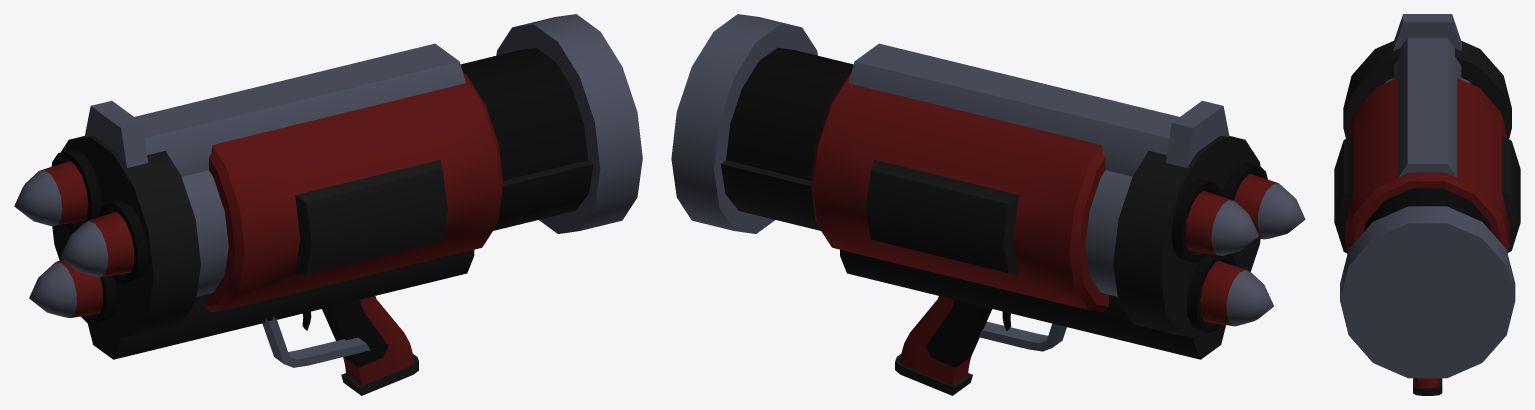
File: RocketLauncher.FBX
The picture shows the model from 3 angles, left to right: view 1: azimuth 30°, elevation 25°; view 2: azimuth 150°, elevation 25°; view 3: azimuth 270°, elevation 25°; orthographic projection. The views are drawn at different scales.
Visible parts, largest first — view 1: RocketLauncher; view 2: RocketLauncher; view 3: RocketLauncher.
Part boxes in pixels (x1,y1,x2,y2): RocketLauncher: (14, 14, 642, 395); RocketLauncher: (671, 14, 1305, 395); RocketLauncher: (1334, 14, 1520, 395).
Size of what is drawn, in the model's own units: 130 by 46.89 by 74.65.
